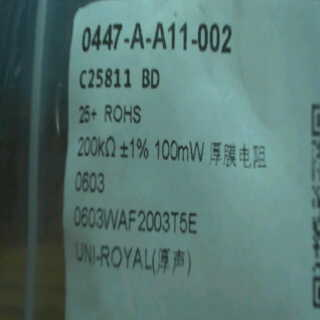200kR: (74, 134, 120, 161)
